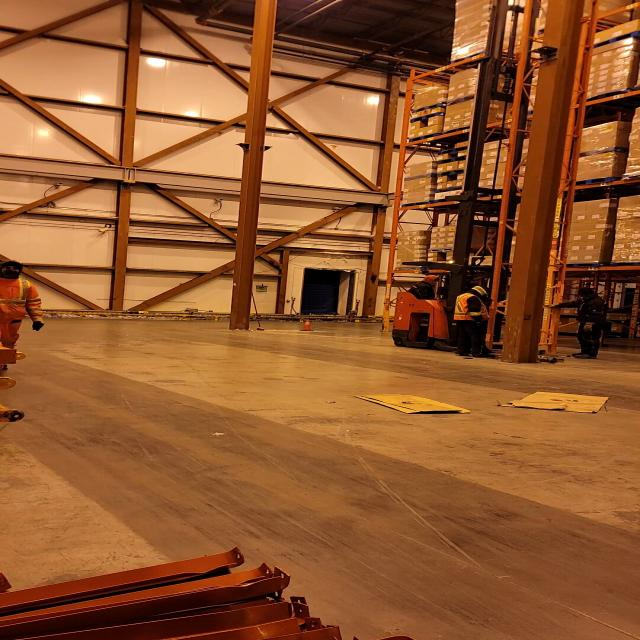forklift: (390, 192, 558, 364)
human: (0, 258, 47, 380), (546, 283, 616, 361), (442, 284, 501, 359), (402, 272, 452, 300)
objectofinterest: (488, 27, 580, 359), (493, 388, 612, 417), (348, 392, 476, 416)
